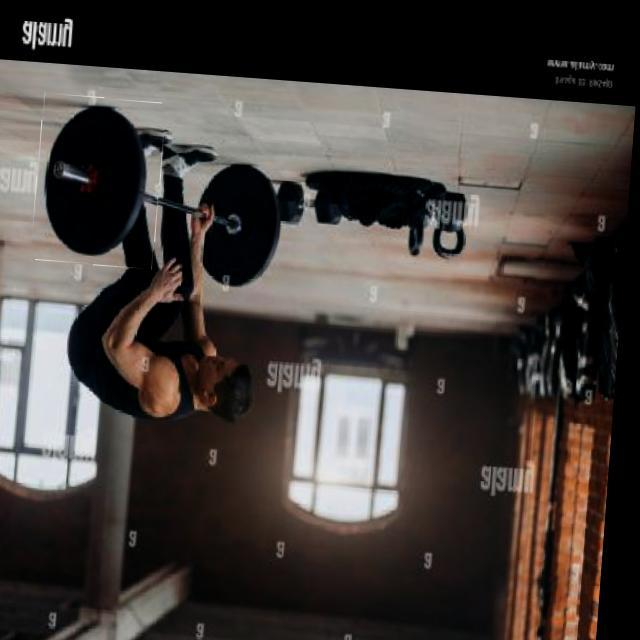barbell: (35, 93, 169, 268)
